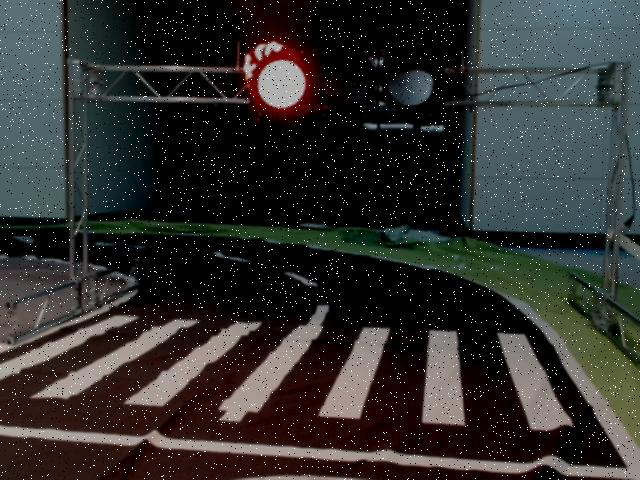crosswalk: (0, 313, 575, 434)
traffic light-red-: (245, 41, 448, 123)
